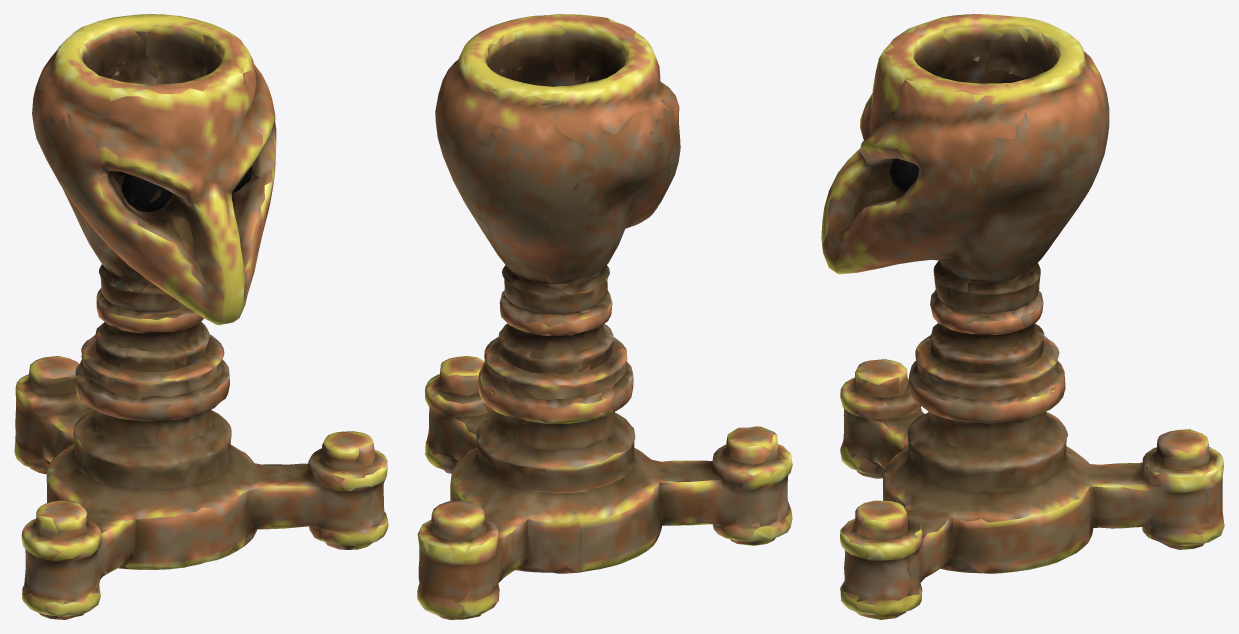
File: SMGT_stand_mesh.obj
The picture shows the model from 3 angles, left to right: view 1: azimuth 30°, elevation 25°; view 2: azimuth 150°, elevation 25°; view 3: azimuth 270°, elevation 25°; orthographic projection.
Bounding box in the file's own units: 0.7696 × 1 × 0.7504.
1 material, 1 textured.
